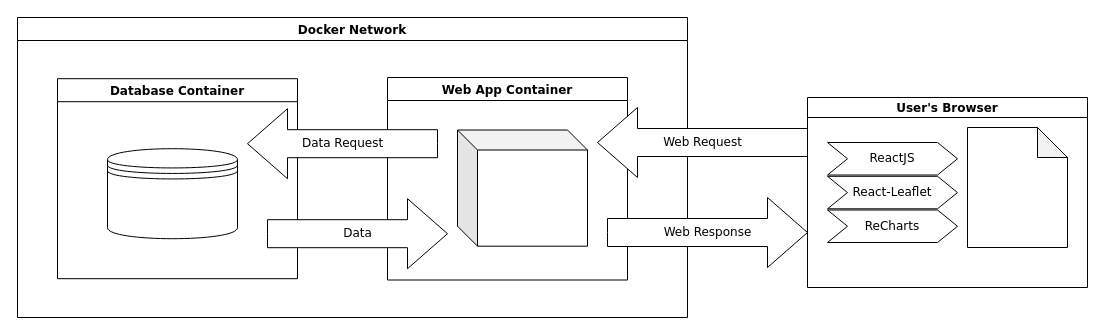
Some shapes in this 1105 by 335 pixel diagram are drawn without their labels. The centre of each missing label's shape, as x and y in pixels:
Django Web Server: the point at 522,187
HTML Page: the point at 1017,187
MySQL: the point at 172,193
